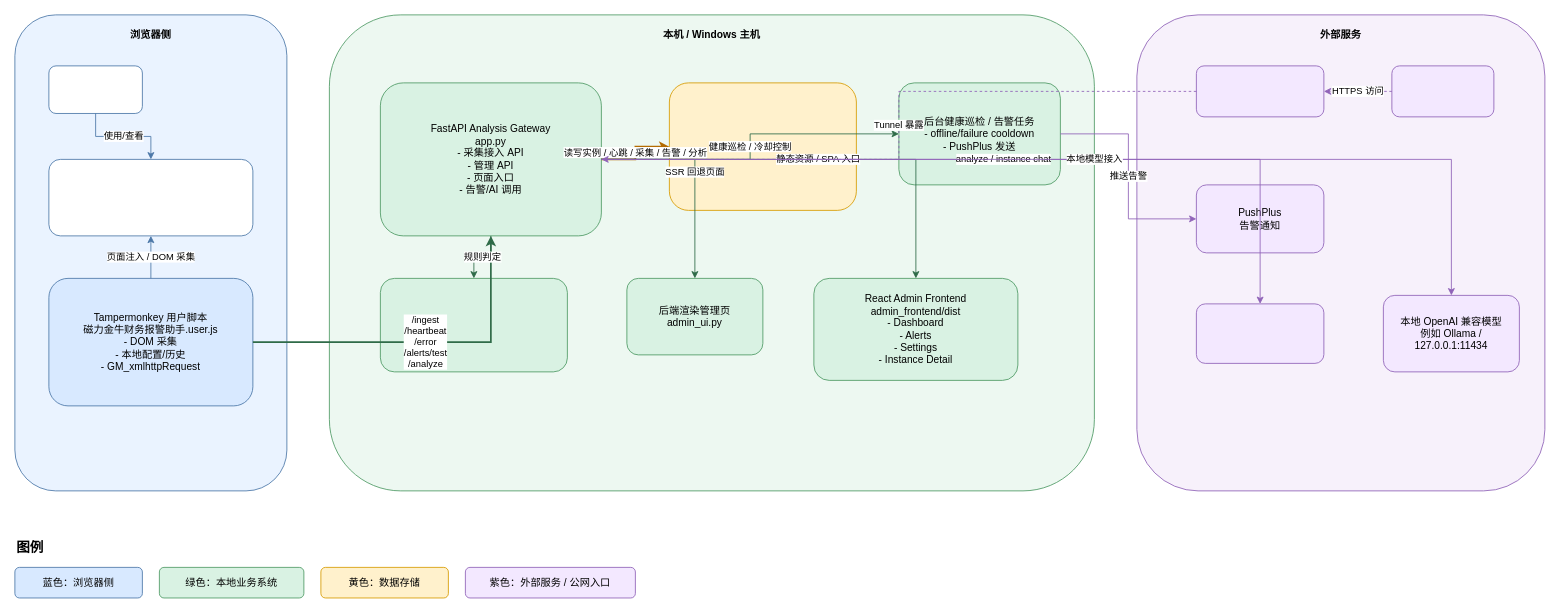
Some shapes in this 1560 by 613 pixel diagram are drawn without their labels. Here are the shapes that lost their labels. From the top down, the centre of each, then its label:
point (95, 89): 运营 / 管理员
point (1260, 91): Cloudflare Tunnel
point (1442, 91): 公网管理域名
point (762, 146): SQLite data/app.db script_instances capture_events alert_records...
point (150, 197): 快手磁力金牛页面 financial / manage / super-manage
point (473, 325): 规则异常检测 anomaly.py surge / threshold_breach / stalled
point (1260, 333): DeepSeek API
